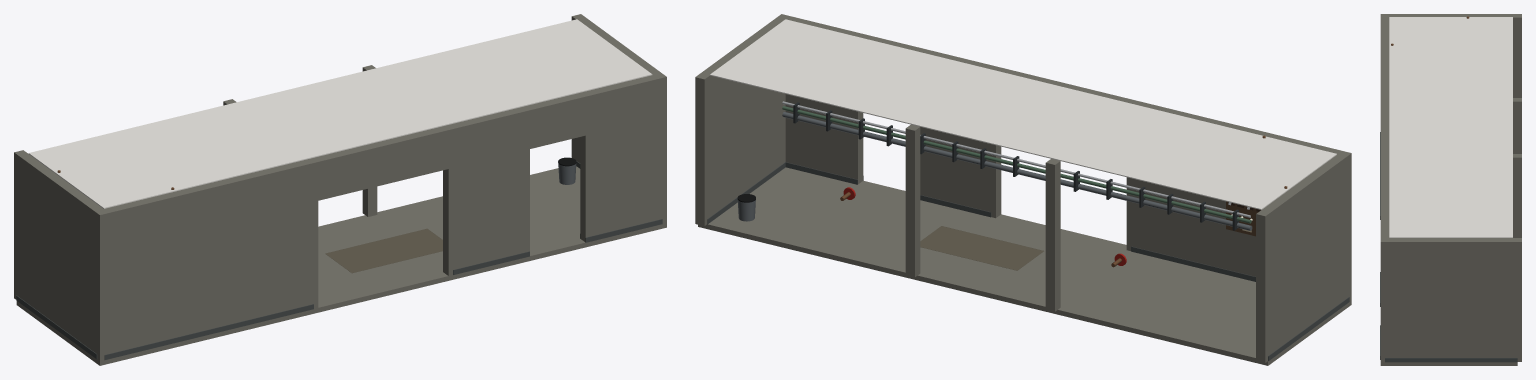
File: ENV_MechanicalCorridor.glb
3 views of the same model, side by side, from view 1: azimuth 30°, elevation 25°; view 2: azimuth 150°, elevation 25°; view 3: azimuth 270°, elevation 25° (orthographic). The views are drawn at different scales.
Visible parts, largest first — view 1: ENV_MechanicalCorridor_Architecture, ENV_MechanicalCorridor_Ceiling, ENV_MechanicalCorridor_Posts, ENV_MechanicalCorridor_Decay; view 2: ENV_MechanicalCorridor_Architecture, ENV_MechanicalCorridor_Ceiling, ENV_MechanicalCorridor_Posts, ENV_MechanicalCorridor_Decay, PROP_Pipes_Wall_2m_Mesh, PROP_Pipes_Wall_2m_Mesh.004, PROP_Pipes_Wall_2m_Mesh.001, PROP_Pipes_Wall_2m_Mesh.003, PROP_Pipes_Wall_2m_Mesh.002, PROP_Panel_Fuse_Historic_Mesh; view 3: ENV_MechanicalCorridor_Ceiling, ENV_MechanicalCorridor_Architecture, ENV_MechanicalCorridor_Posts.
Boxes of the visible parts, x1,y1,x2,y2 form: ENV_MechanicalCorridor_Architecture: [16, 16, 666, 365]; ENV_MechanicalCorridor_Ceiling: [28, 19, 652, 208]; ENV_MechanicalCorridor_Posts: [14, 14, 666, 360]; ENV_MechanicalCorridor_Decay: [325, 228, 442, 273]; ENV_MechanicalCorridor_Architecture: [698, 15, 1351, 365]; ENV_MechanicalCorridor_Ceiling: [710, 19, 1336, 209]; ENV_MechanicalCorridor_Posts: [695, 14, 1351, 362]; ENV_MechanicalCorridor_Decay: [920, 226, 1043, 270]; PROP_Pipes_Wall_2m_Mesh: [1156, 192, 1252, 230]; PROP_Pipes_Wall_2m_Mesh.004: [782, 101, 877, 139]; PROP_Pipes_Wall_2m_Mesh.001: [1063, 170, 1157, 207]; PROP_Pipes_Wall_2m_Mesh.003: [876, 124, 970, 162]; PROP_Pipes_Wall_2m_Mesh.002: [969, 147, 1064, 185]; PROP_Panel_Fuse_Historic_Mesh: [1226, 135, 1265, 236]; ENV_MechanicalCorridor_Ceiling: [1389, 17, 1512, 237]; ENV_MechanicalCorridor_Architecture: [1380, 14, 1517, 365]; ENV_MechanicalCorridor_Posts: [1380, 14, 1521, 361].
Size of what is drawn, in the model's own units: 12.22 by 3.15 by 3.21.
